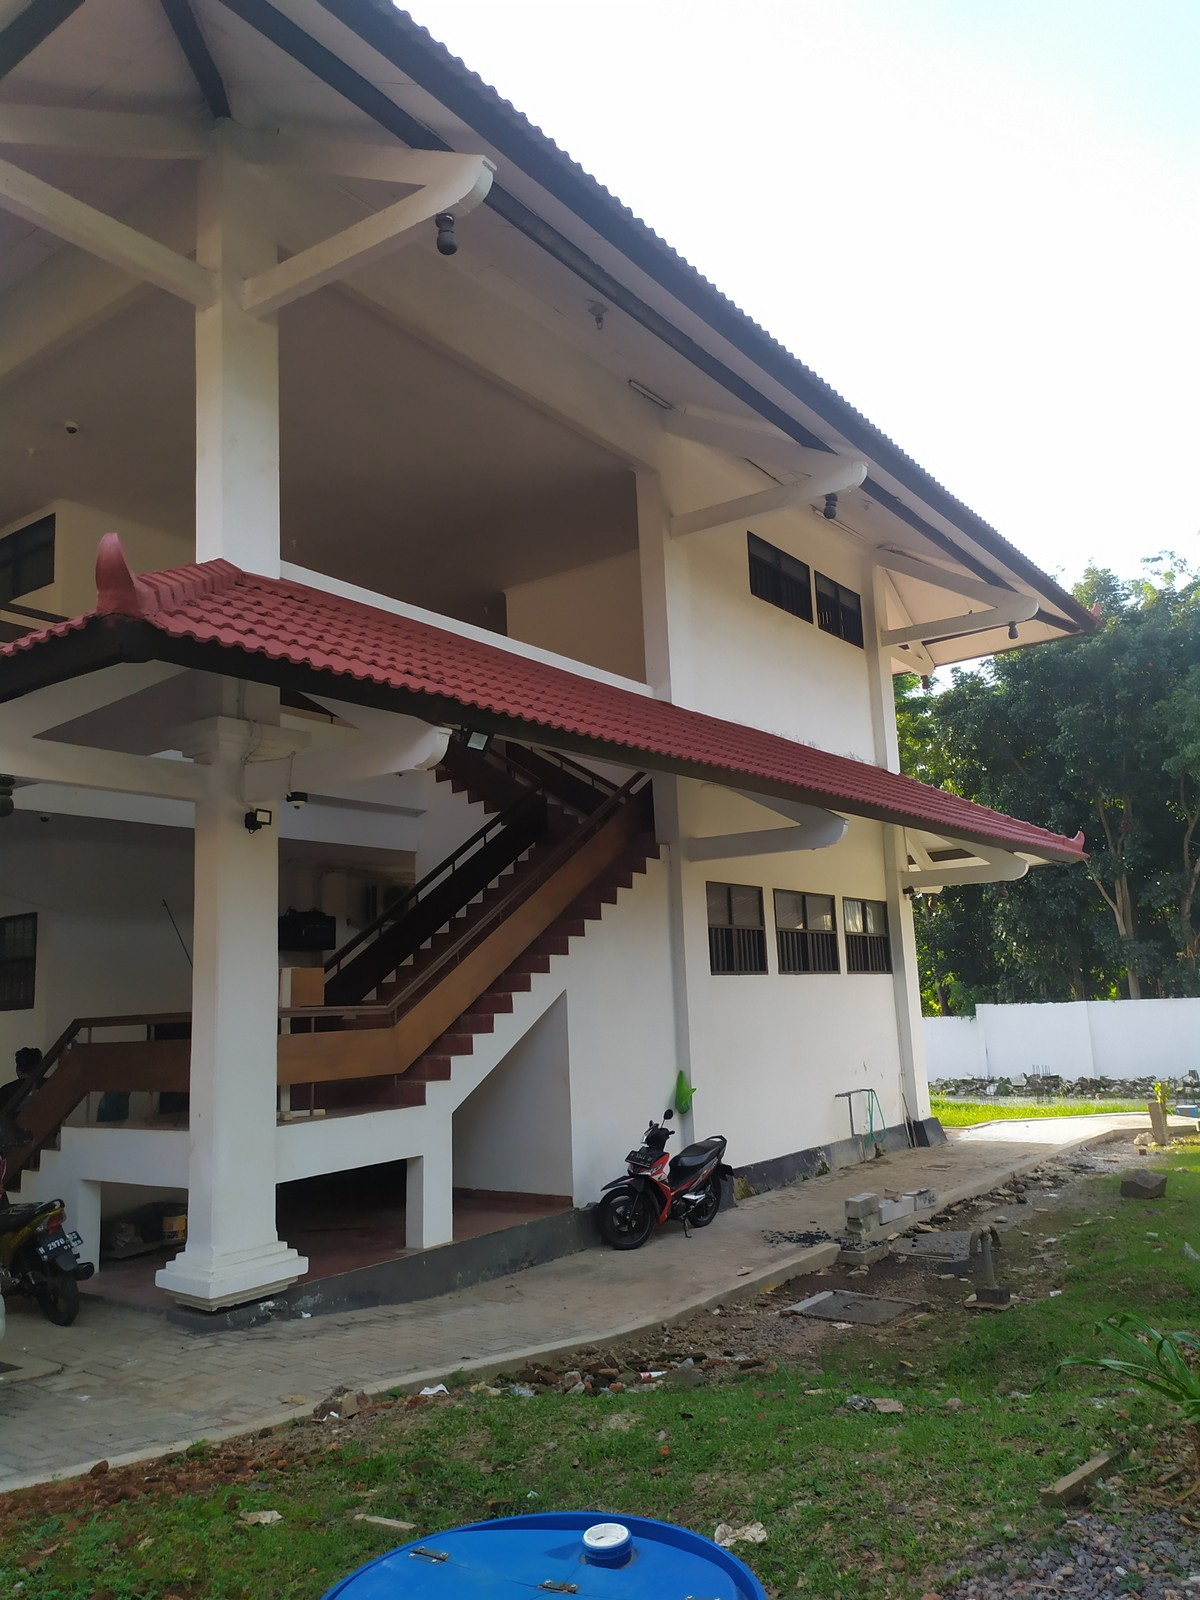concrete beam: (25, 734, 222, 813), (661, 486, 794, 544), (677, 820, 805, 871), (874, 615, 998, 655), (889, 860, 1003, 896)
concrete column: (173, 671, 292, 1251), (176, 110, 289, 580), (658, 775, 725, 1158), (880, 820, 942, 1138), (637, 425, 705, 708), (858, 535, 904, 774)
